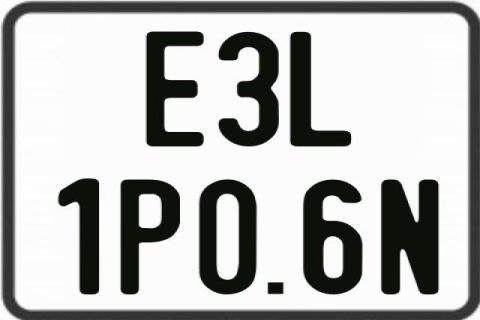0: (217, 30, 282, 150), (196, 179, 255, 296), (302, 178, 361, 294), (56, 178, 99, 298)
E: (144, 31, 208, 149)
L: (288, 32, 353, 150)
N: (380, 179, 444, 295)
P: (120, 178, 180, 294)
